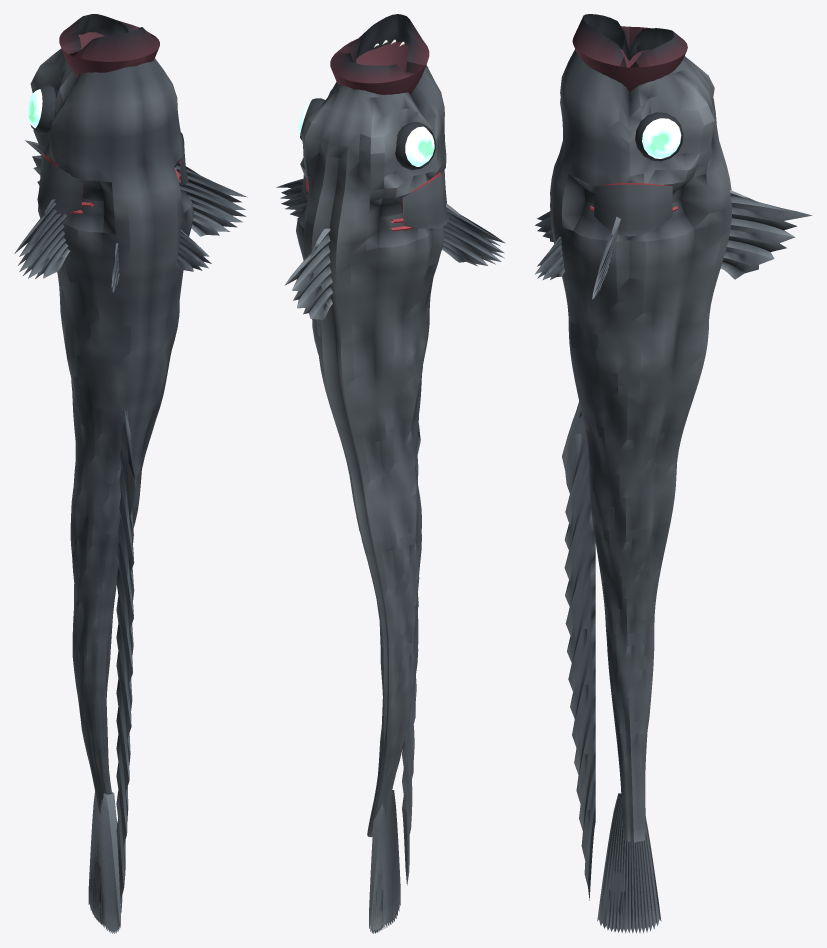
File: fish_grenadier.glb
The picture shows the model from 3 angles, left to right: view 1: azimuth 30°, elevation 25°; view 2: azimuth 150°, elevation 25°; view 3: azimuth 270°, elevation 25°; orthographic projection. The views are drawn at different scales.
Parts seen in each view (by area): view 1: Fish_grenadier; view 2: Fish_grenadier; view 3: Fish_grenadier.
Part boxes in pixels (<box>): Fish_grenadier: <box>14,14,247,933</box>; Fish_grenadier: <box>276,14,505,933</box>; Fish_grenadier: <box>534,14,812,933</box>.
Bounding box in the file's own units: 0.381 × 1.42 × 0.3901.
